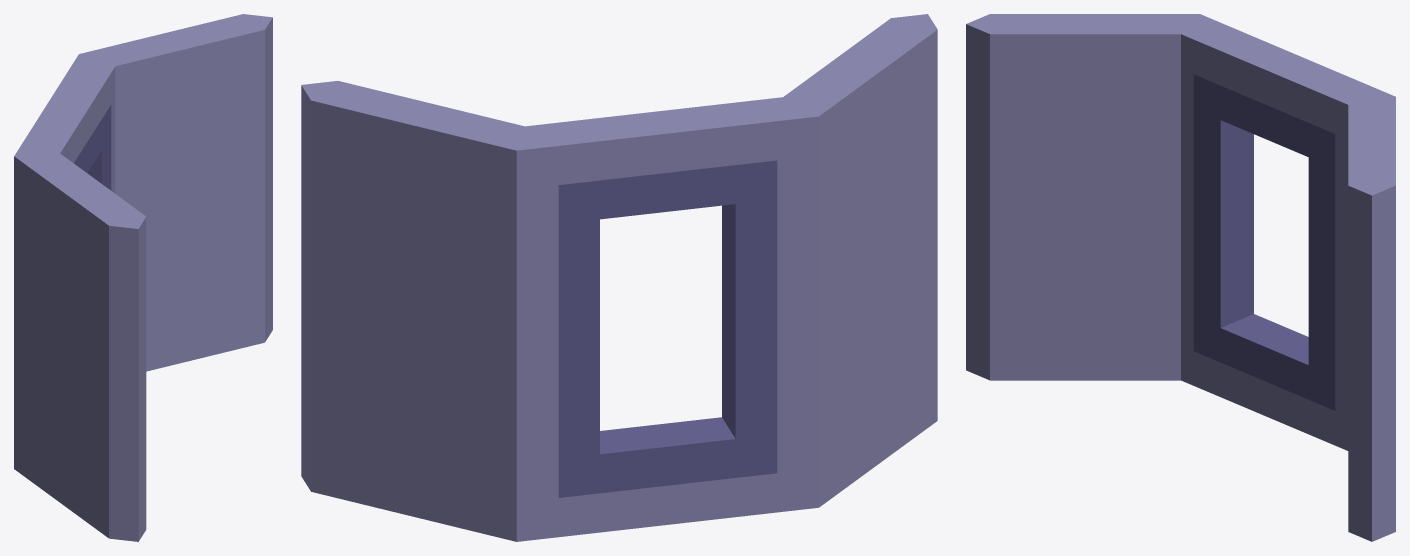
File: Wall_Corner_Window.fbx
3 renders of one model, left to right at view 1: azimuth 30°, elevation 25°; view 2: azimuth 150°, elevation 25°; view 3: azimuth 270°, elevation 25°, orthographic. The views are drawn at different scales.
Parts seen in each view (by area): view 1: wall_cornerEdgeWindowLarge; view 2: wall_cornerEdgeWindowLarge; view 3: wall_cornerEdgeWindowLarge.
Part boxes in pixels (x1,y1,x2,y2): wall_cornerEdgeWindowLarge: [14, 14, 272, 541]; wall_cornerEdgeWindowLarge: [301, 14, 937, 541]; wall_cornerEdgeWindowLarge: [966, 14, 1395, 541].
Size of the model in its own units: 11.25 by 10 by 11.25.
